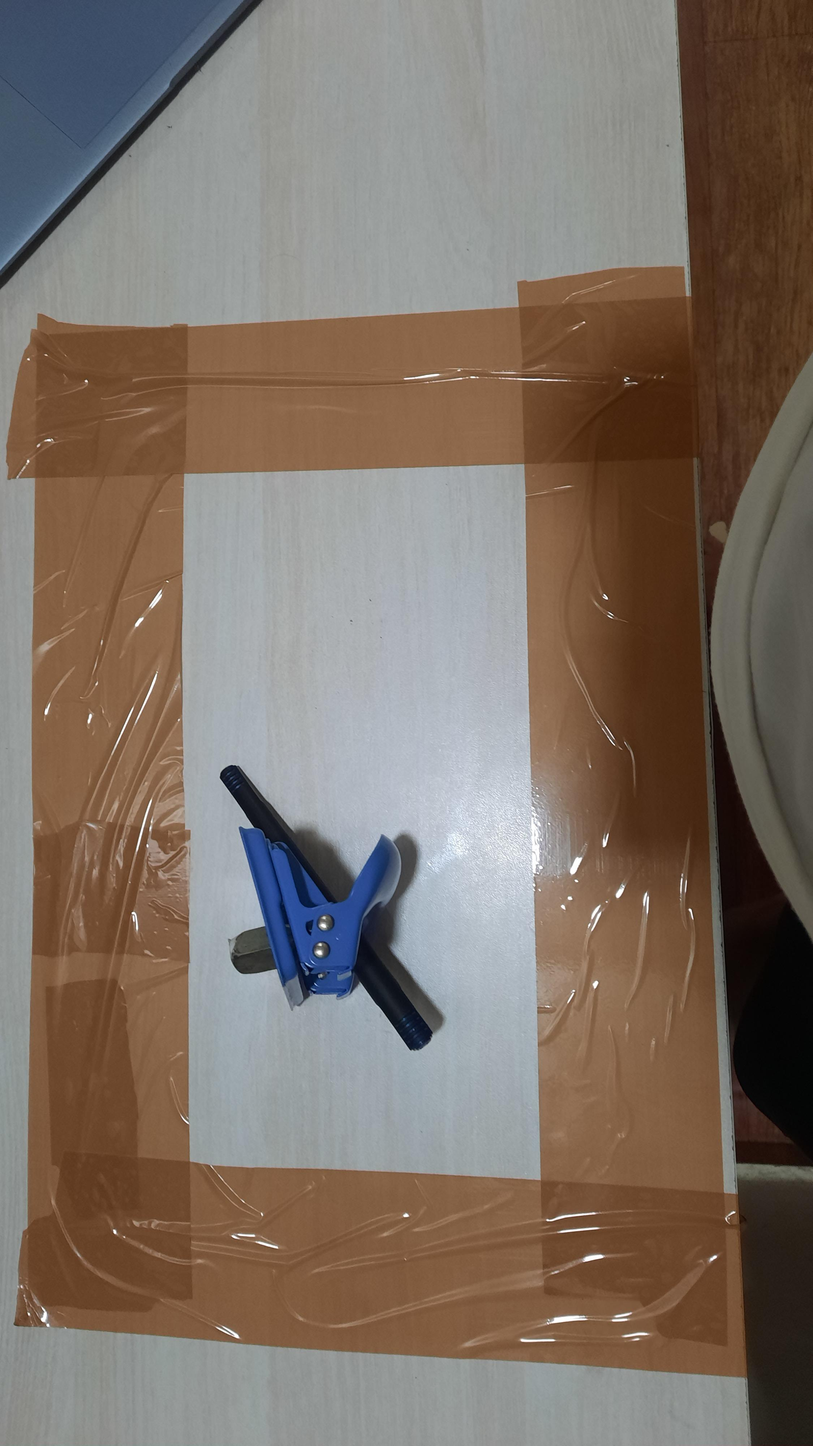Eraser: (229, 927, 275, 975)
Pen: (219, 765, 433, 1051)
Punch: (238, 826, 401, 1011)
